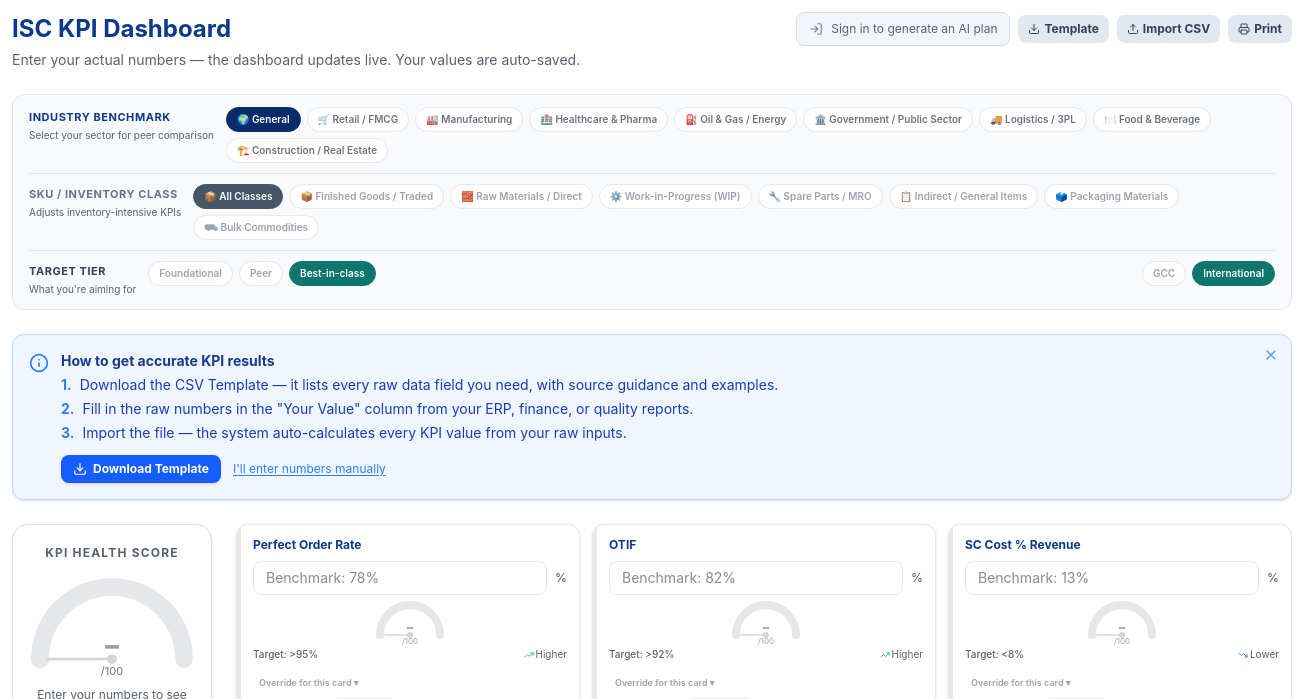
it: KPIDashboard — handleChange auto-save quota exceeded › shows the inline ⚠ warning text when the debounced save is dropped
Expected: the text "auto-saved" is shown, [12,51,580,68]
Type "55" into the number field labelled "Perfect Order Rate".
click(400, 578); type("55")  # box [253,561,547,595]
Wait 500 ms
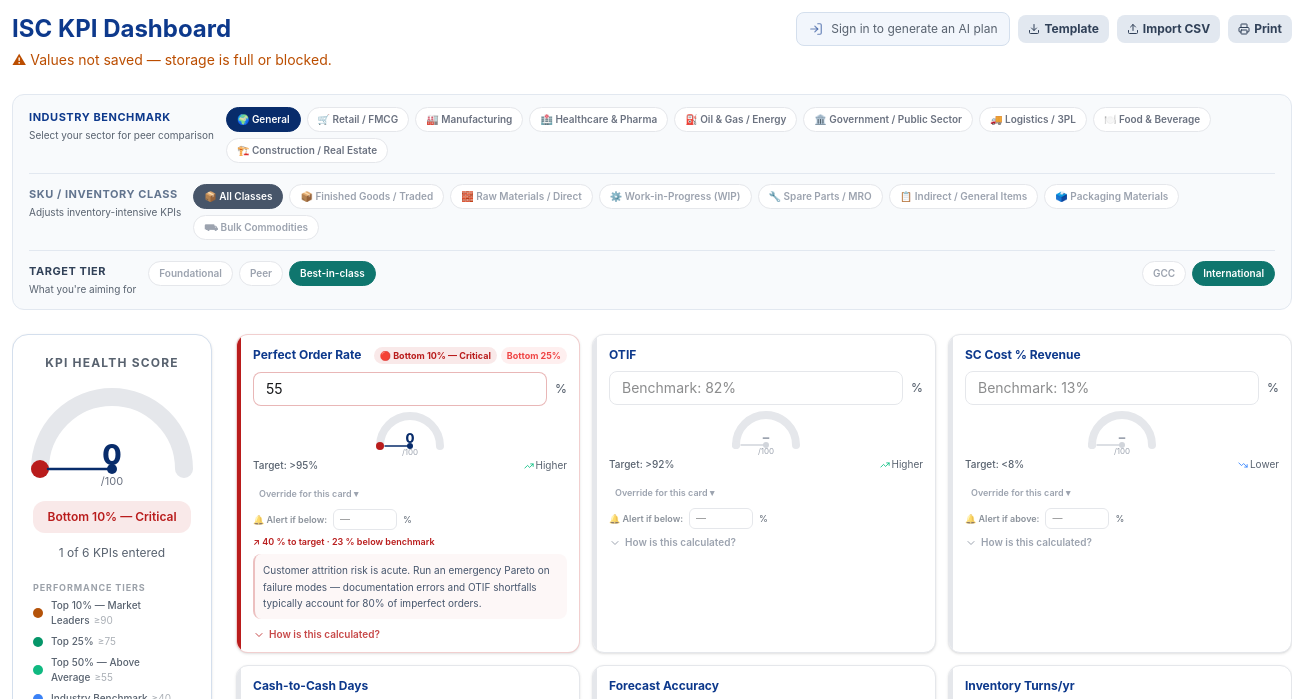
Expected: the text "⚠ Values not saved — storage is full or blocked." is shown, [12,51,332,68]
Expected: the text "auto-saved" is gone
